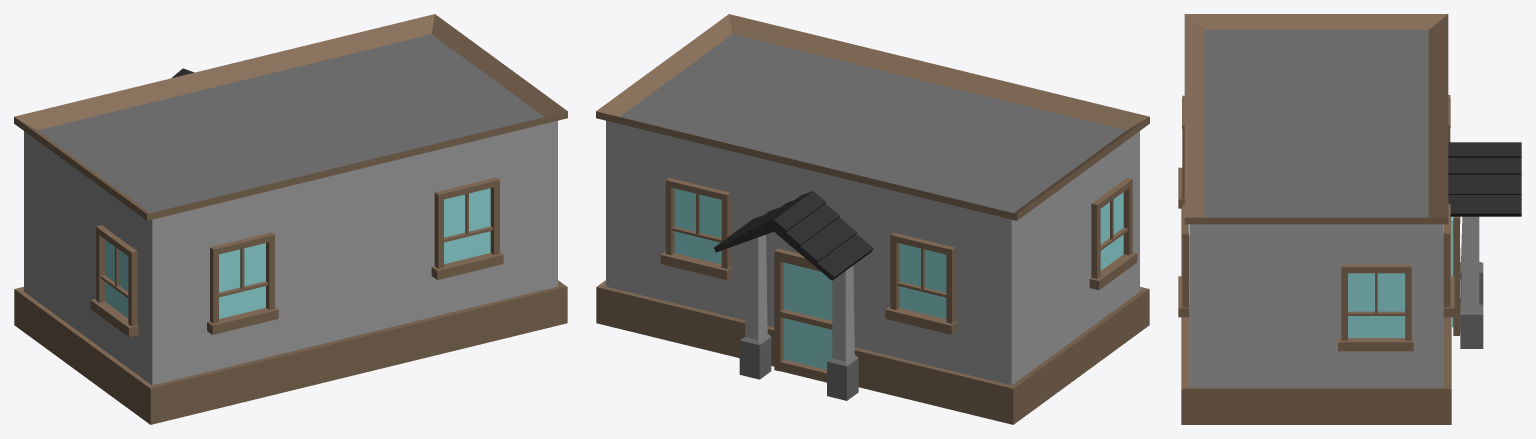
Rendered from Basic Building FBX.fbx.
3 views of the same model, side by side, from view 1: azimuth 30°, elevation 25°; view 2: azimuth 150°, elevation 25°; view 3: azimuth 270°, elevation 25° (orthographic).
Visible parts, largest first — view 1: pCube6; view 2: pCube6; view 3: pCube6.
Part boxes in pixels (x1,y1,x2,y2): pCube6: (14, 14, 567, 424); pCube6: (596, 14, 1149, 424); pCube6: (1178, 14, 1521, 424).
Size of the model in its own units: 11.25 by 5.34 by 7.92.
